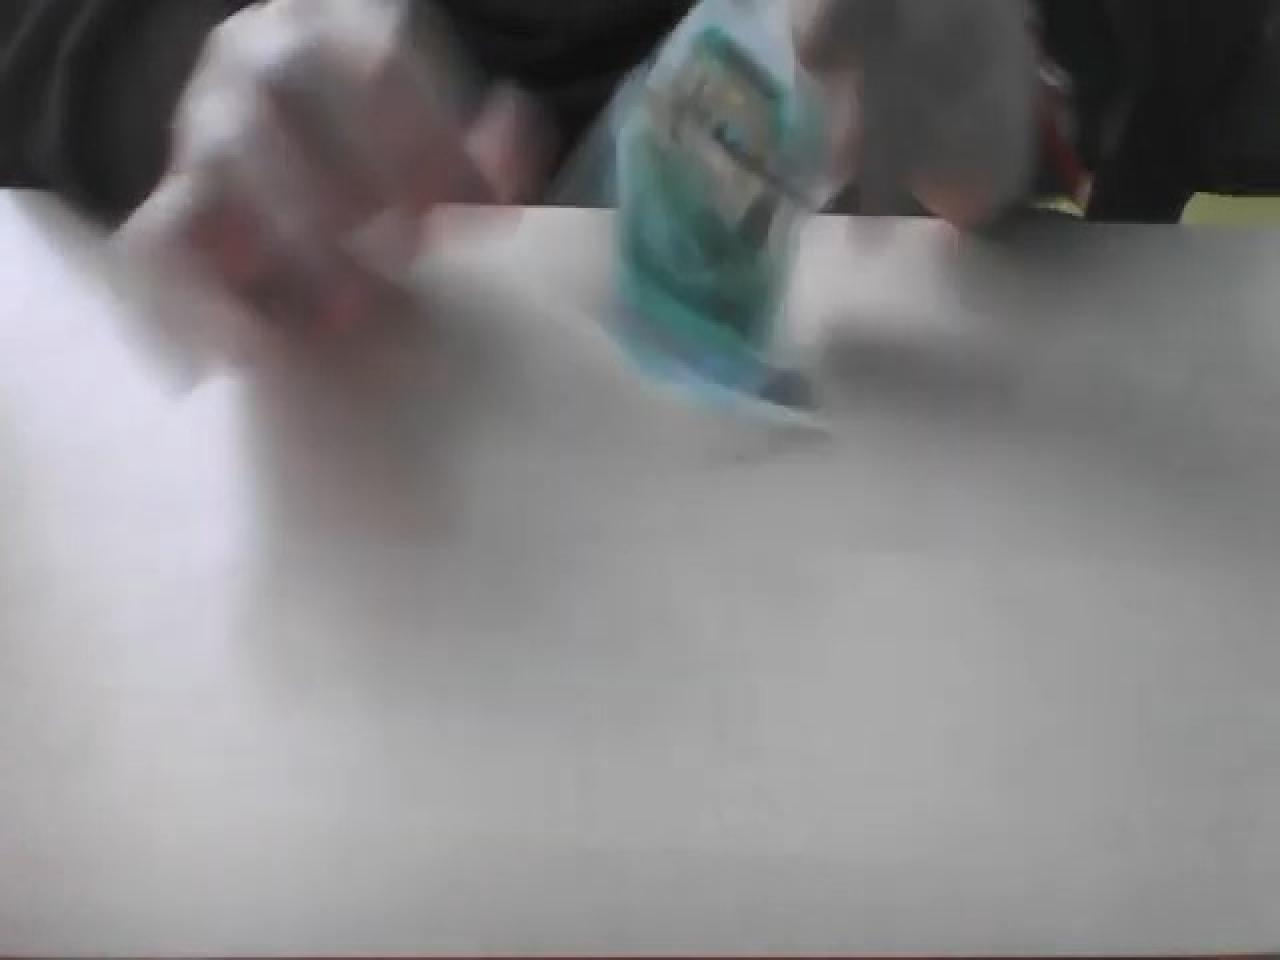100leva: (608, 16, 833, 405)
